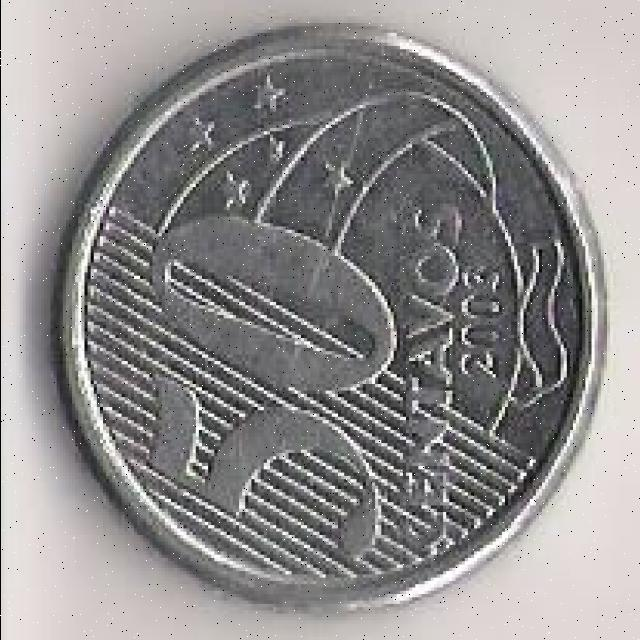50 cent: (50, 19, 610, 617)
